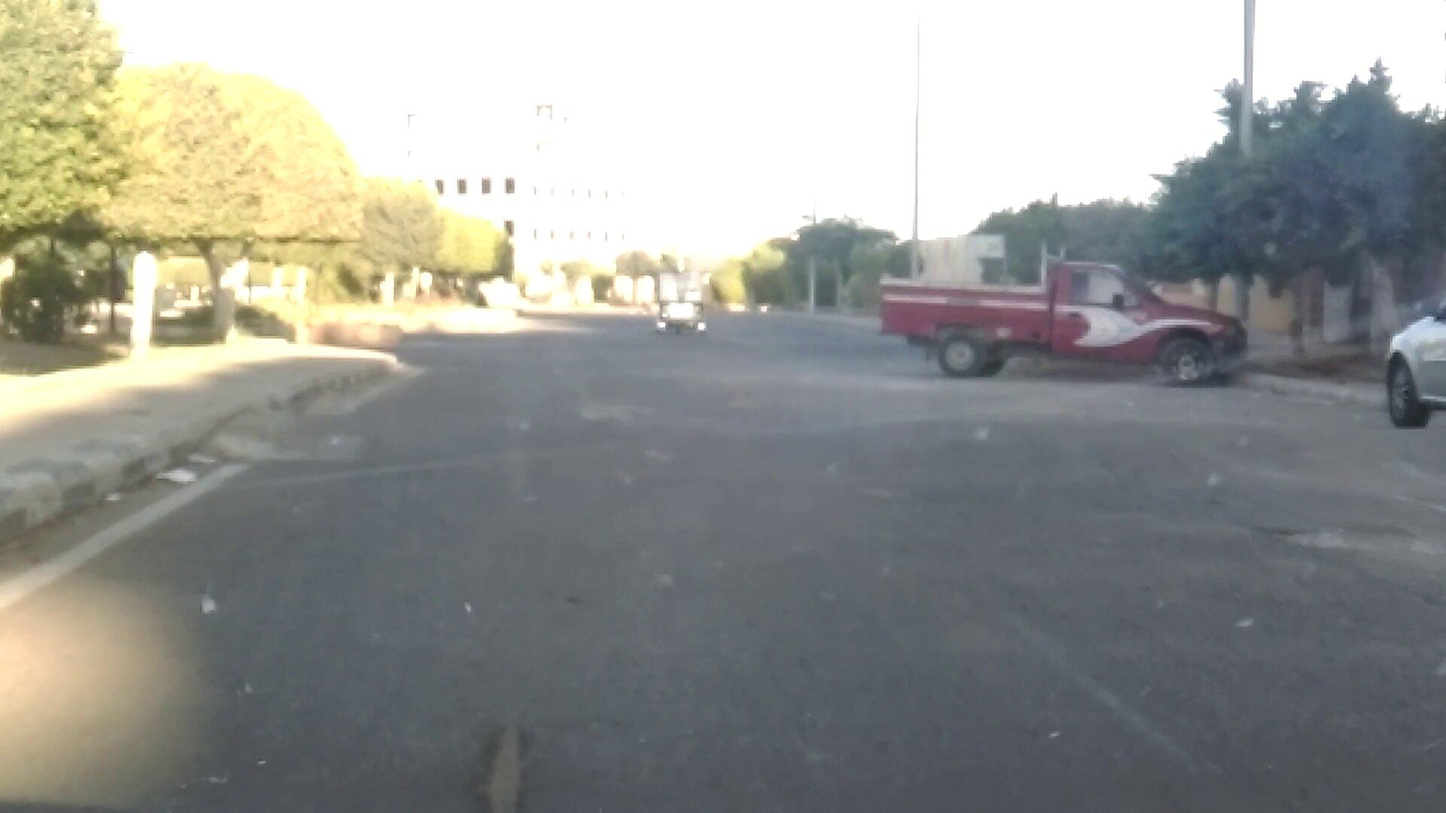Pothole: (1231, 495, 1446, 606), (429, 691, 574, 813)
